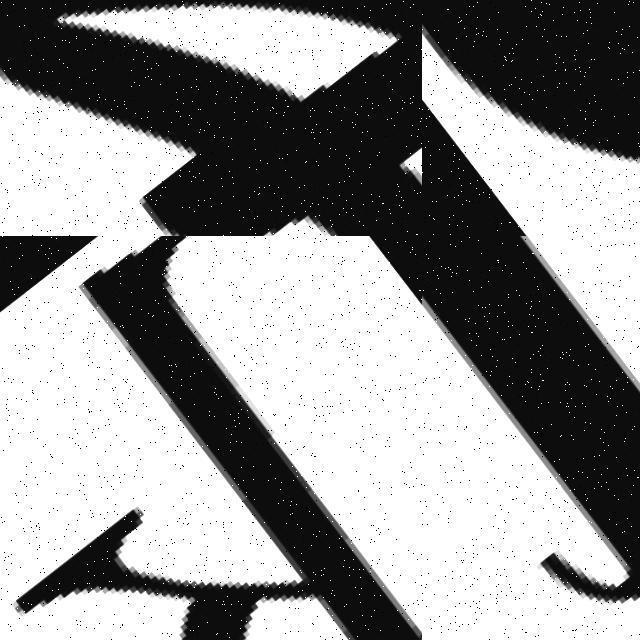K: (0, 236, 422, 640)
O: (422, 0, 640, 236)
T: (422, 236, 640, 640)
